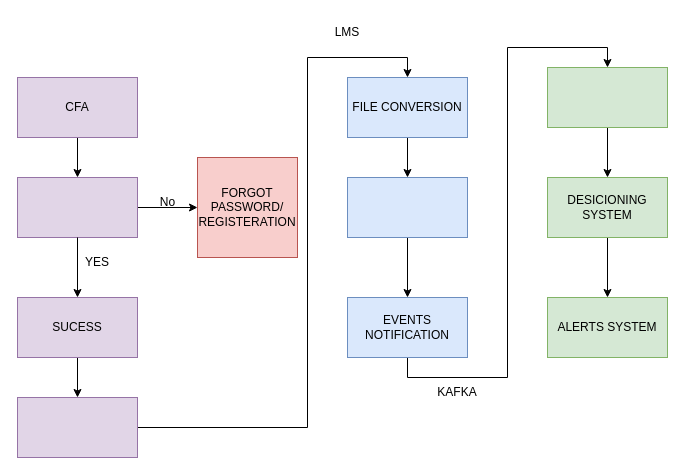
Image size: 685x475. Some labels were removed from this diagram. Here are the shapes that lost their labels. From the top down, the centre of each, then its label:
At point 607,97: "TFA".
At point 77,207: "Login".
At point 407,207: "DOC INGESTION".
At point 77,427: "FILE UPLOAD".
